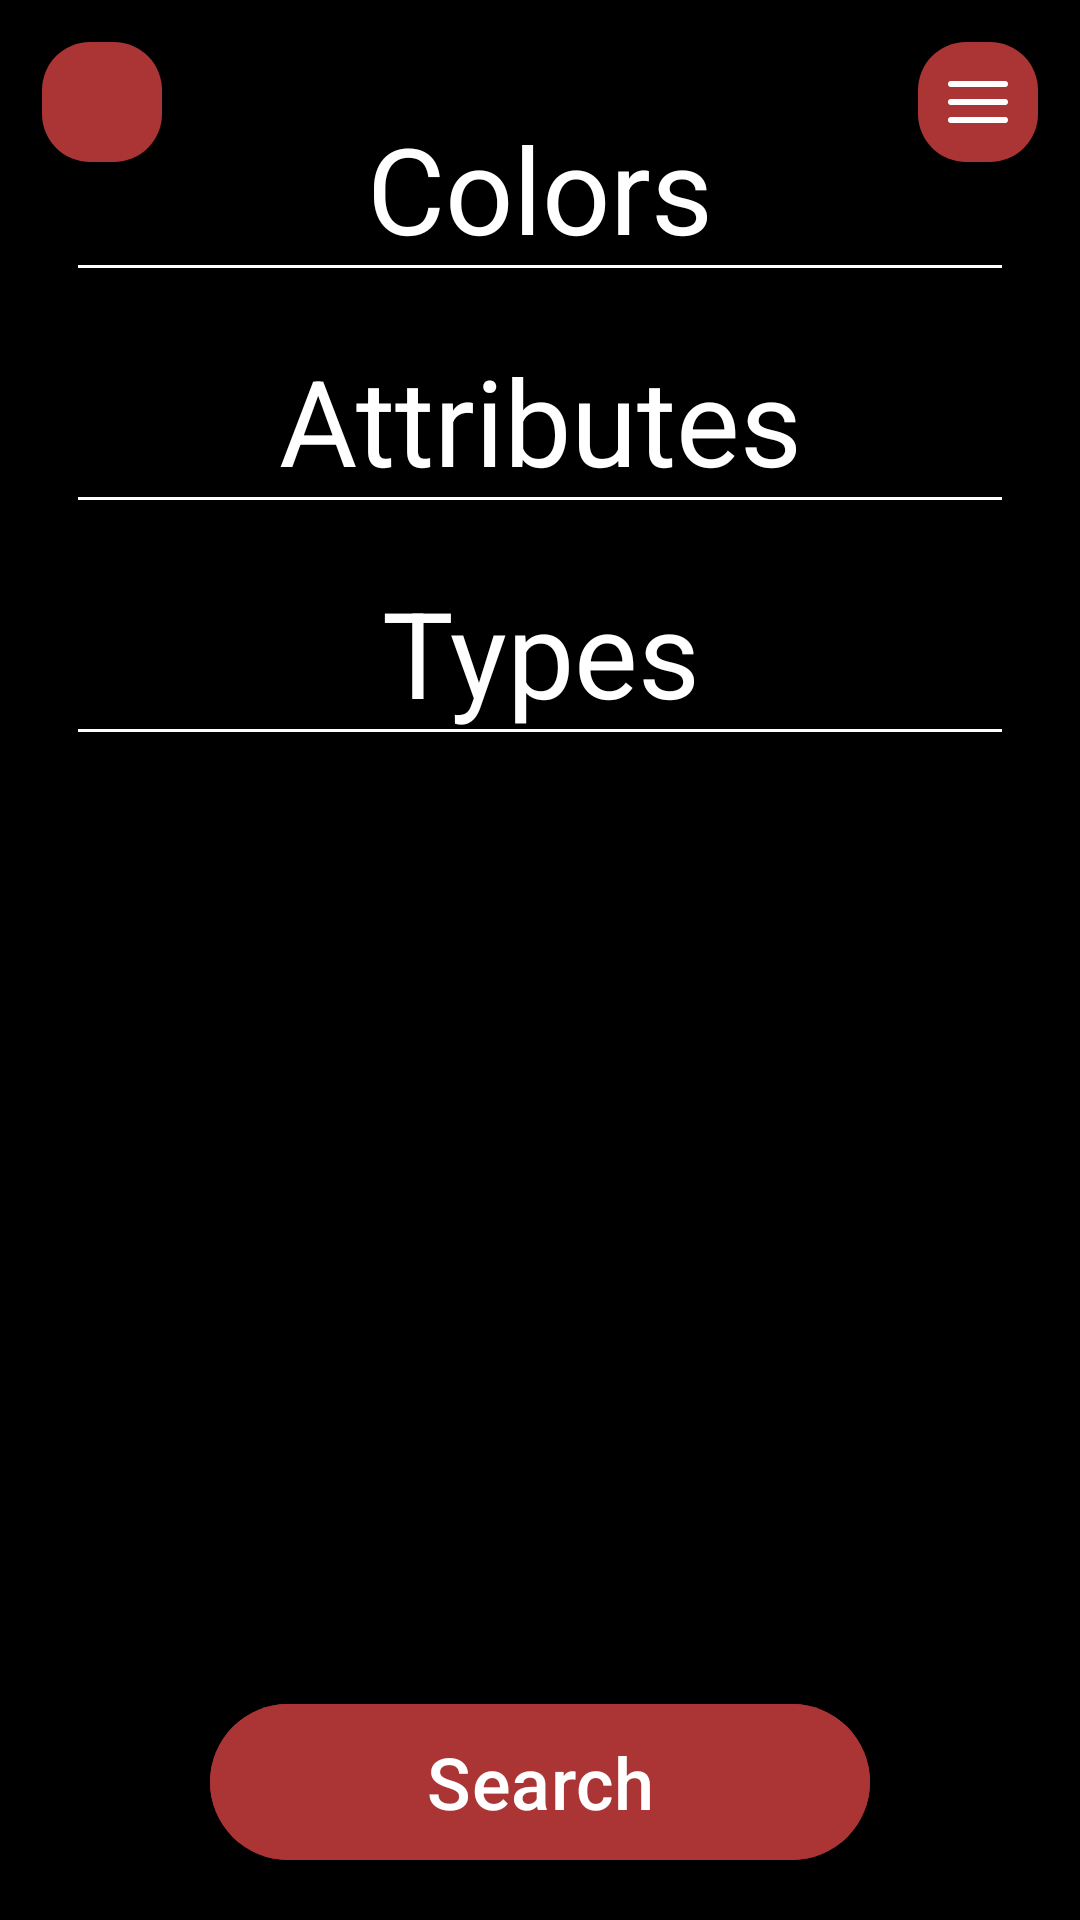

Named icons in this screenshot (1080*1920) and their bounding boxes, (x1, y1, x2, y2):
menu: (918, 42, 1038, 162)
